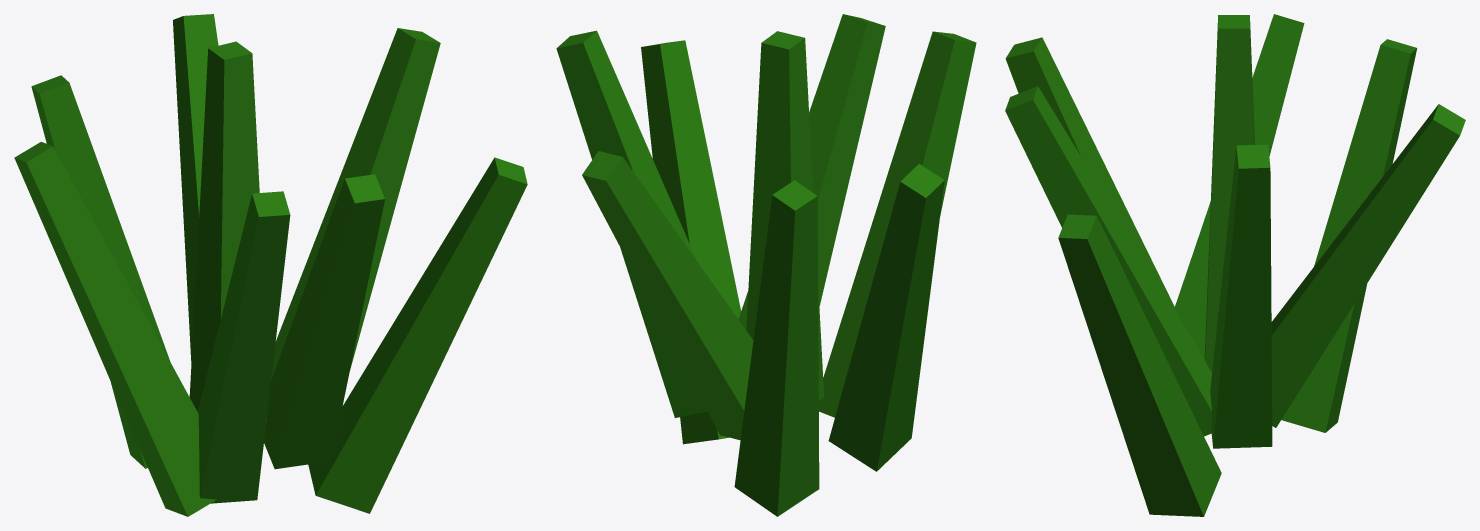
Rendered from grass02.fbx.
3 renders of one model, left to right at view 1: azimuth 30°, elevation 25°; view 2: azimuth 150°, elevation 25°; view 3: azimuth 270°, elevation 25°, orthographic.
Visible parts, largest first — view 1: grass_01_Plane_001; view 2: grass_01_Plane_001; view 3: grass_01_Plane_001.
Boxes of the visible parts, <box> form: grass_01_Plane_001: <box>14,14,527,516</box>; grass_01_Plane_001: <box>556,14,976,516</box>; grass_01_Plane_001: <box>1005,14,1465,516</box>.
Size of the model in its own units: 27.05 by 29.27 by 27.37.
